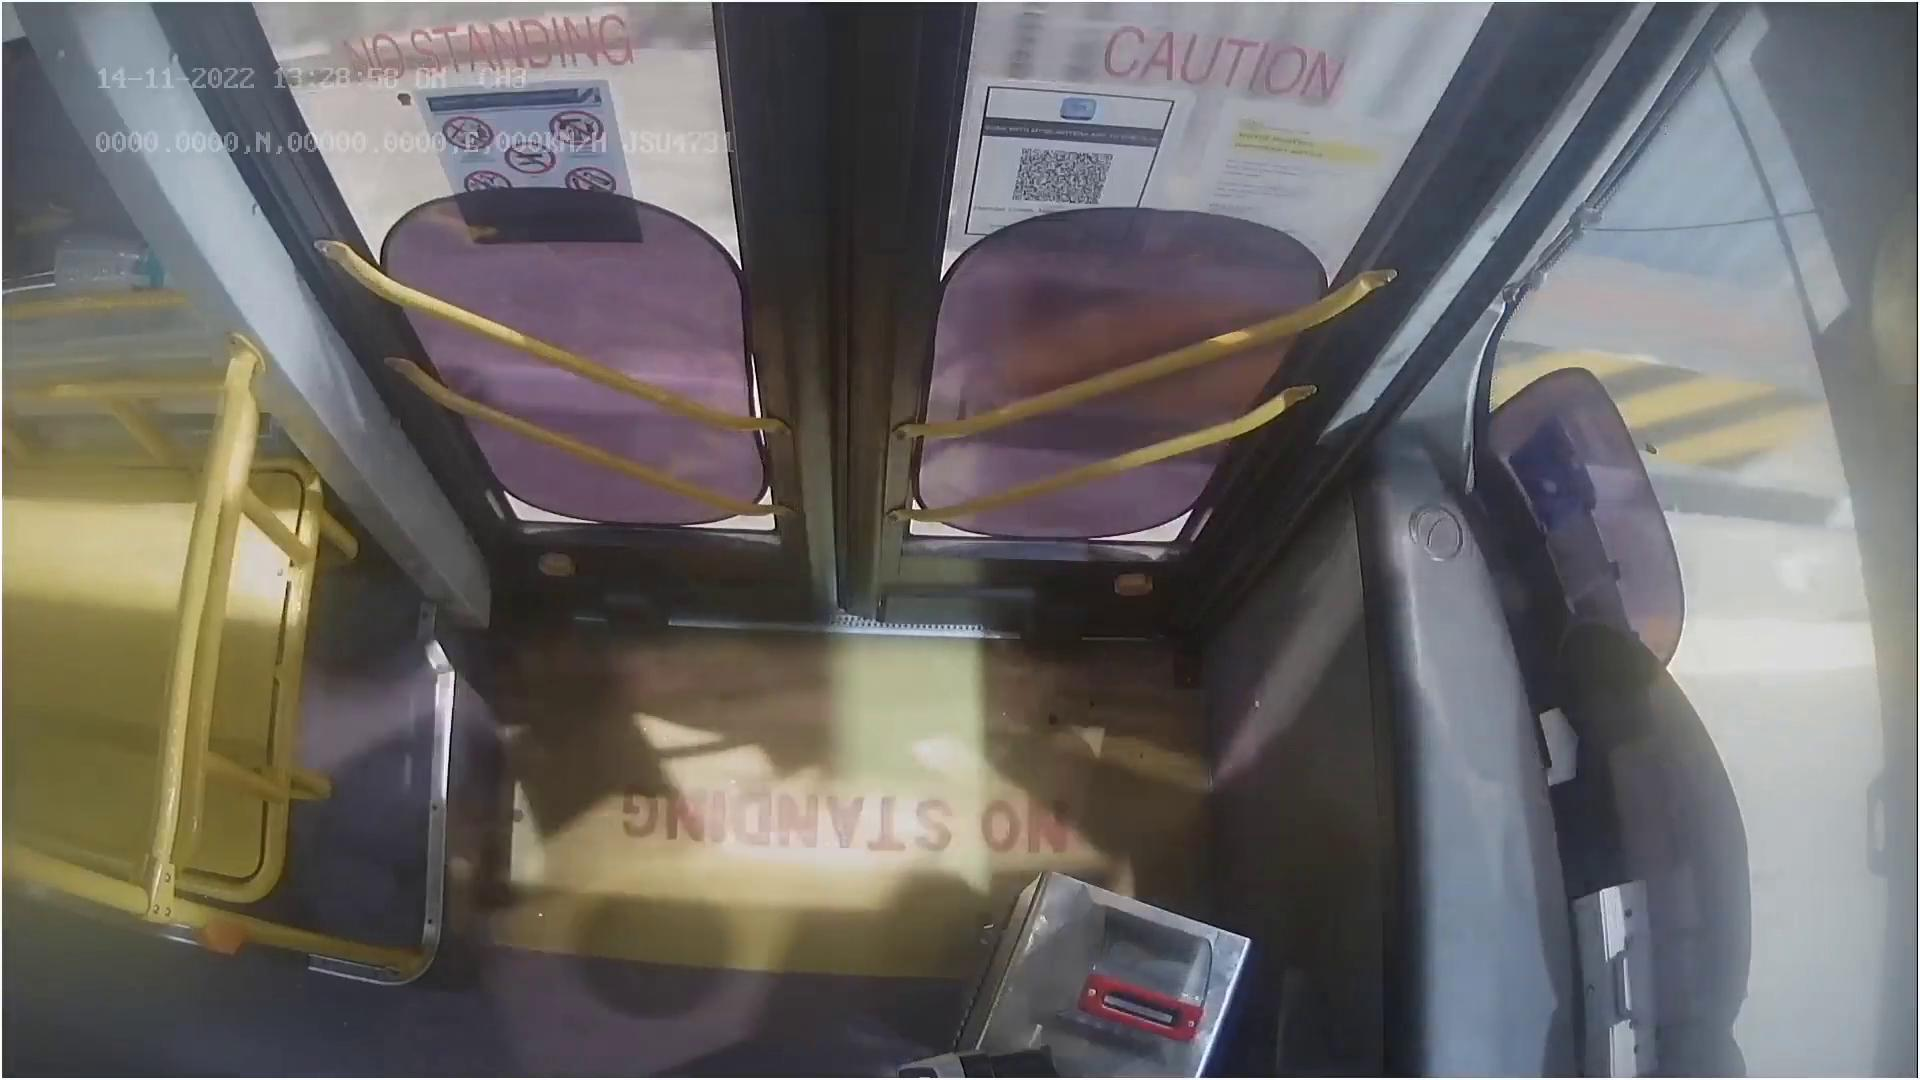close: (286, 0, 1444, 165)
